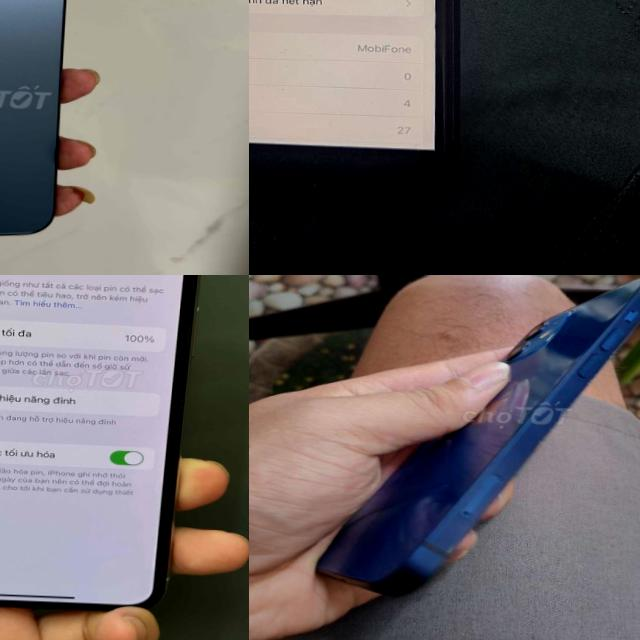gen_12_13: (309, 275, 640, 613), (0, 0, 70, 246)
gen_6: (249, 0, 485, 215)
gen_x_xs: (0, 275, 211, 619)
